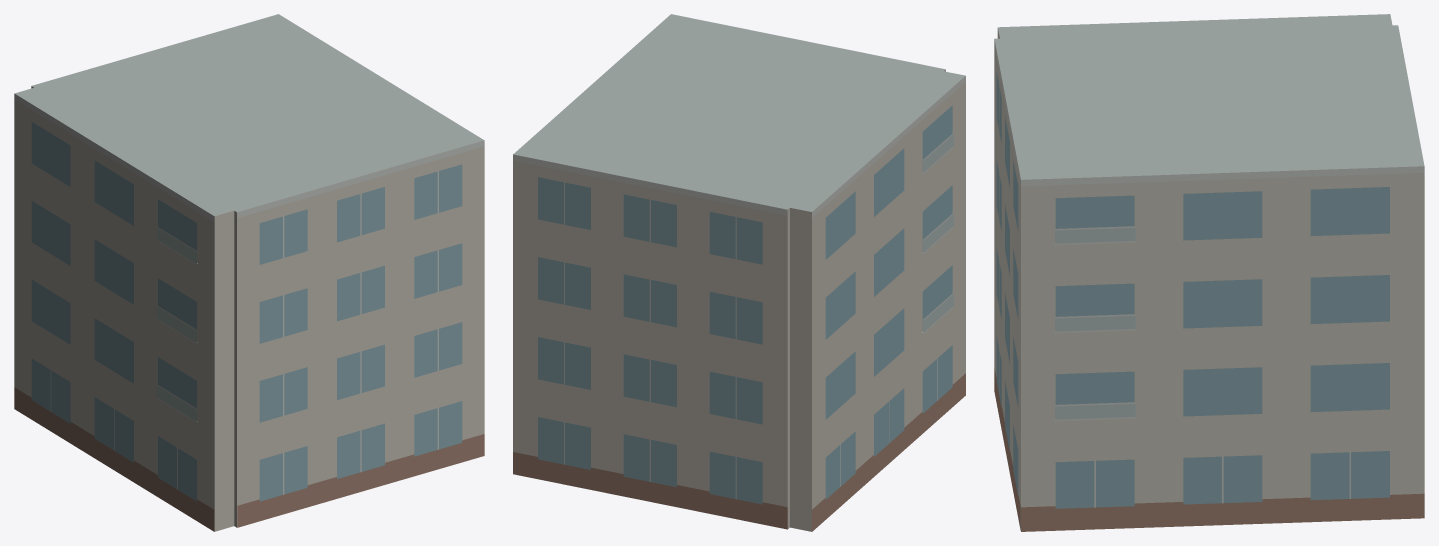
Rendered from survey-upis-32622344.glb.
3 renders of one model, left to right at view 1: azimuth 30°, elevation 25°; view 2: azimuth 150°, elevation 25°; view 3: azimuth 270°, elevation 25°, orthographic. The views are drawn at different scales.
Visible parts, largest first — view 1: survey-upis-32622344.tmp; view 2: survey-upis-32622344.tmp; view 3: survey-upis-32622344.tmp.
Part boxes in pixels (x1=…): survey-upis-32622344.tmp: x1=14, y1=14, x2=484, y2=531; survey-upis-32622344.tmp: x1=513, y1=14, x2=965, y2=531; survey-upis-32622344.tmp: x1=994, y1=14, x2=1424, y2=531.
Size of the model in its own units: 13.14 by 13 by 14.41.
